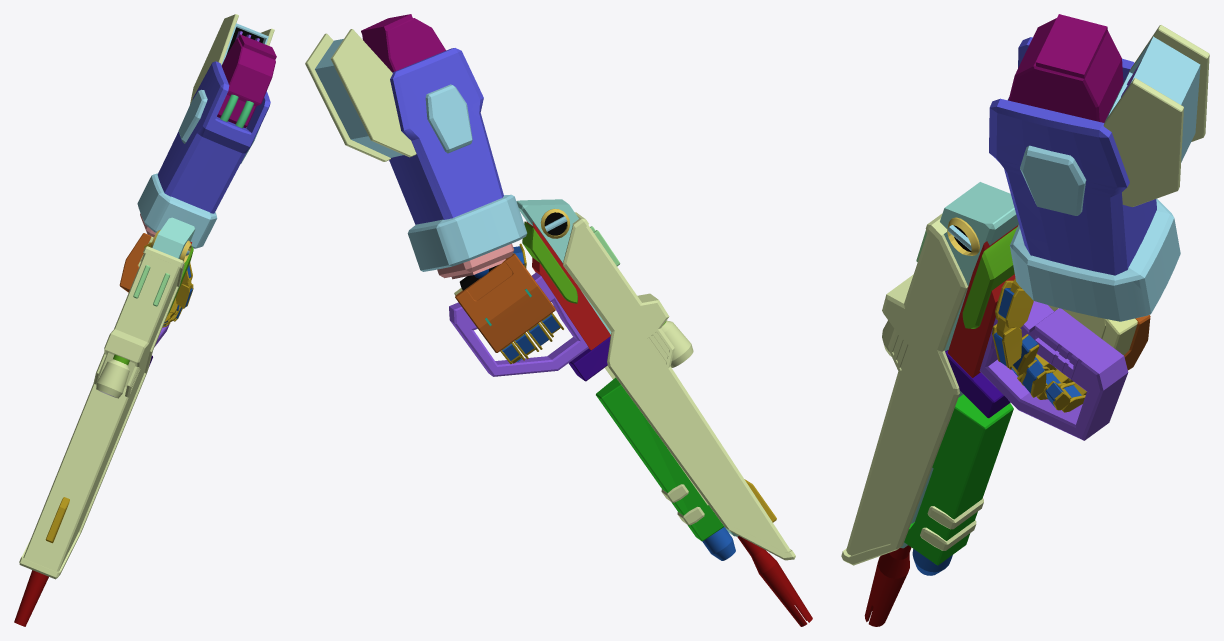
The model's file is left_hand1.obj.
The picture shows the model from 3 angles, left to right: view 1: azimuth 30°, elevation 25°; view 2: azimuth 150°, elevation 25°; view 3: azimuth 270°, elevation 25°; orthographic projection. The views are drawn at different scales.
Visible parts, largest first — view 1: left_hand freedom:ChafCaja985, left_hand freedom:ChafCaja808, left_hand freedom:ChafCaja828, left_hand freedom:ChafCaja811, left_hand freedom:ChafCaja979, left_hand freedom:ChafCaja809, left_hand freedom:Cilindro29, left_hand freedom:Cilindro33, left_hand freedom:ChafCaja825, left_hand freedom:ChafCaja813, left_hand freedom:Caja341, left_hand freedom:ChafCaja984; view 2: left_hand freedom:ChafCaja985, left_hand freedom:ChafCaja808, left_hand freedom:ChafCaja811, left_hand freedom:ChafCaja825, left_hand freedom:ChafCaja809, left_hand freedom:ChafCaja981, left_hand freedom:transform3, left_hand freedom:ChafCaja828, left_hand freedom:ChafCaja813, left_hand freedom:Caja341, left_hand freedom:Caja418, left_hand freedom:Cilindro33 (+7 smaller); view 3: left_hand freedom:ChafCaja985, left_hand freedom:ChafCaja808, left_hand freedom:transform3, left_hand freedom:ChafCaja811, left_hand freedom:ChafCaja828, left_hand freedom:ChafCaja981, left_hand freedom:ChafCaja810, left_hand freedom:ChafCaja979, left_hand freedom:Caja341, left_hand freedom:ChafCaja812, left_hand freedom:Caja418, left_hand freedom:transform2 (+11 smaller).
Part boxes in pixels (x1,y1,x2,y2): left_hand freedom:ChafCaja985: (19, 246, 184, 579); left_hand freedom:ChafCaja808: (157, 61, 270, 213); left_hand freedom:ChafCaja828: (217, 34, 276, 127); left_hand freedom:ChafCaja811: (137, 173, 217, 248); left_hand freedom:ChafCaja979: (152, 217, 195, 258); left_hand freedom:ChafCaja809: (190, 14, 238, 104); left_hand freedom:Cilindro29: (96, 359, 129, 398); left_hand freedom:Cilindro33: (14, 570, 48, 626); left_hand freedom:ChafCaja825: (119, 233, 151, 292); left_hand freedom:ChafCaja813: (178, 89, 207, 143); left_hand freedom:Caja341: (221, 23, 268, 65); left_hand freedom:ChafCaja984: (45, 497, 69, 543); left_hand freedom:ChafCaja985: (563, 212, 795, 560); left_hand freedom:ChafCaja808: (389, 48, 503, 224); left_hand freedom:ChafCaja811: (407, 194, 527, 271); left_hand freedom:ChafCaja825: (455, 253, 555, 352); left_hand freedom:ChafCaja809: (331, 29, 416, 157); left_hand freedom:ChafCaja981: (596, 377, 724, 541); left_hand freedom:transform3: (449, 272, 588, 376); left_hand freedom:ChafCaja828: (361, 14, 445, 72); left_hand freedom:ChafCaja813: (425, 84, 472, 153); left_hand freedom:Caja341: (315, 39, 403, 157); left_hand freedom:Caja418: (526, 221, 610, 350); left_hand freedom:Cilindro33: (737, 536, 812, 626); left_hand freedom:ChafCaja985: (841, 213, 967, 565); left_hand freedom:ChafCaja808: (989, 37, 1156, 275); left_hand freedom:transform3: (979, 301, 1128, 440); left_hand freedom:ChafCaja811: (1009, 198, 1180, 321); left_hand freedom:ChafCaja828: (1008, 14, 1123, 122); left_hand freedom:ChafCaja981: (904, 394, 1013, 565); left_hand freedom:ChafCaja810: (1103, 78, 1183, 207); left_hand freedom:ChafCaja979: (900, 182, 1018, 548); left_hand freedom:Caja341: (1104, 36, 1200, 162); left_hand freedom:ChafCaja812: (1020, 145, 1086, 215); left_hand freedom:Caja418: (947, 225, 1018, 377); left_hand freedom:transform2: (962, 227, 1017, 328).
Bounding box in the file's own units: 48.41 × 66.7 × 26.04.
